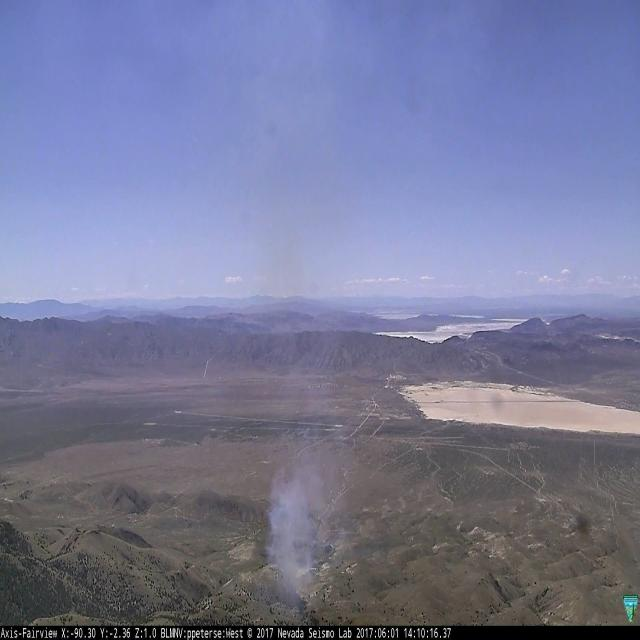smoke: (266, 470, 345, 609)
